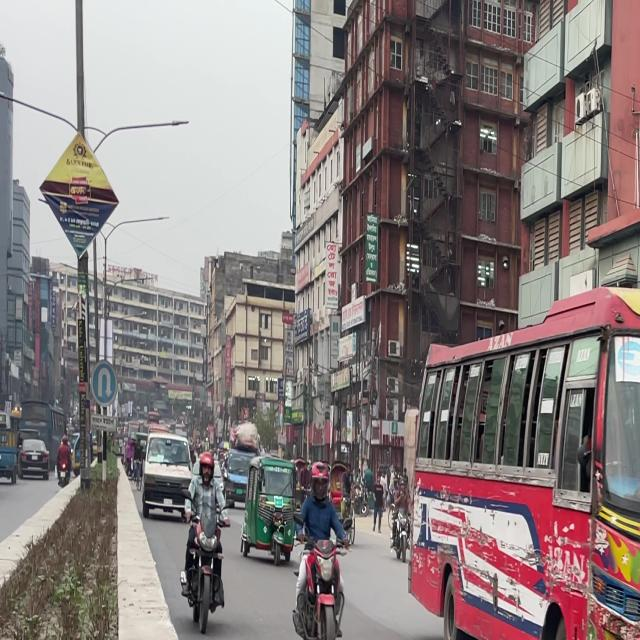bus: (465, 282, 640, 640)
car: (142, 427, 193, 522)
motorbike: (291, 538, 348, 640), (391, 495, 413, 562), (208, 516, 224, 564)
rickshaw: (239, 453, 306, 573)
